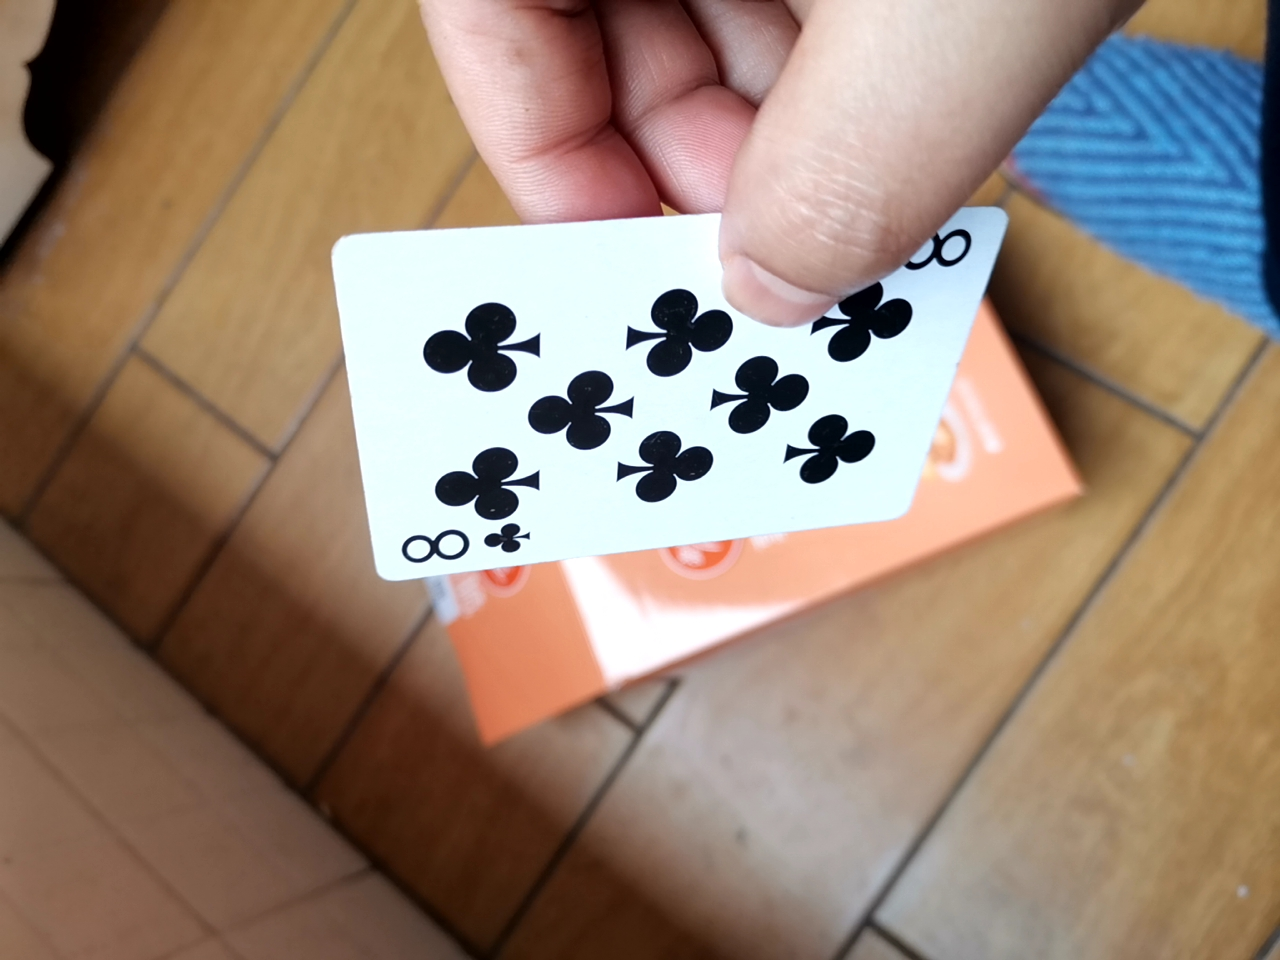mh 8: (326, 201, 1001, 586)
